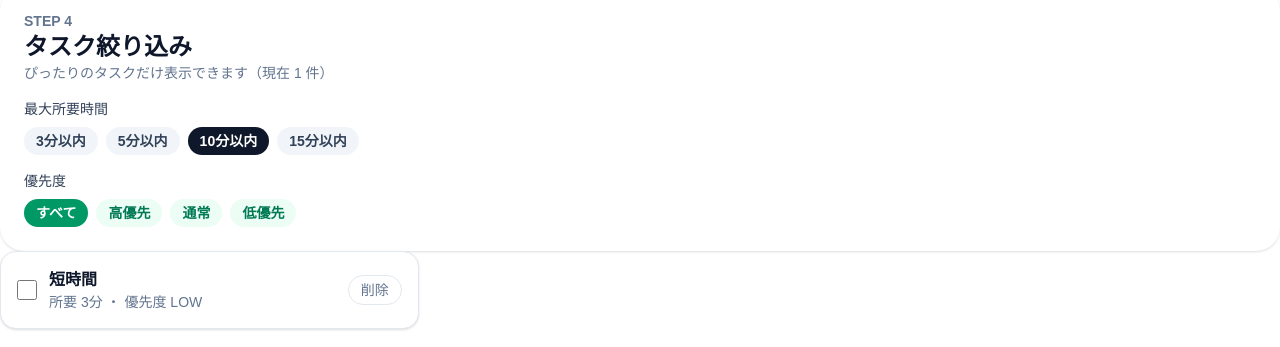
Test: TaskFilter › 最大所要時間でフィルタリングする
The image size is (1280, 347).
Click the button "15分以内": click(318, 141) [277,127,359,155]
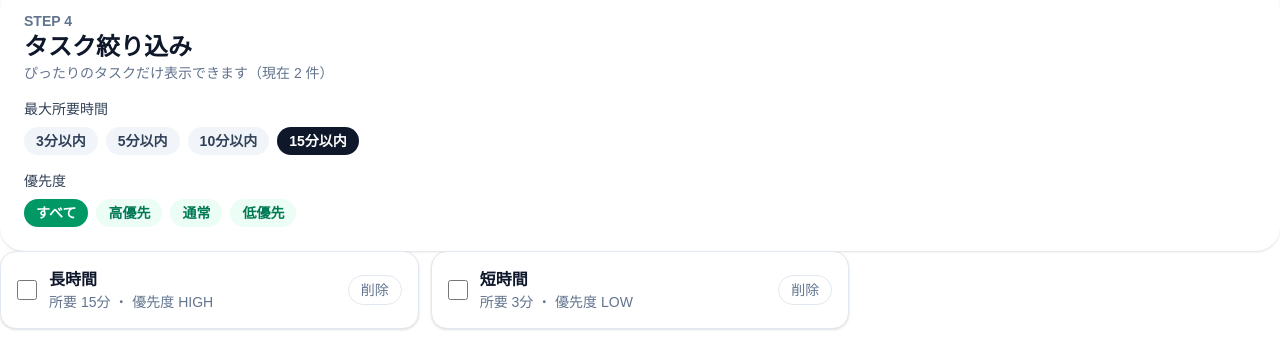
Result: the text "長時間" is shown at [49,271,97,288]
Click the button "5分以内": click(143, 141) [106,127,180,155]
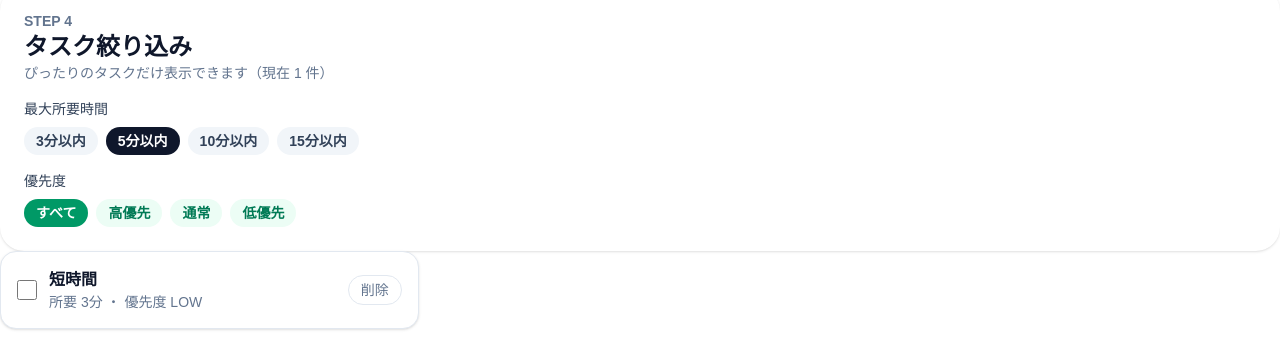
Expected: the text "短時間" is shown, [49,271,97,288]
Result: the text "長時間" is gone
